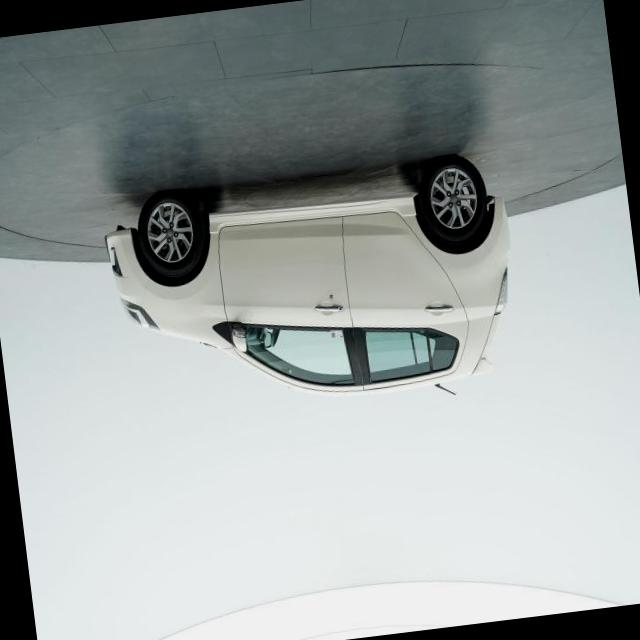PeroduaAxia: (100, 146, 530, 436)
